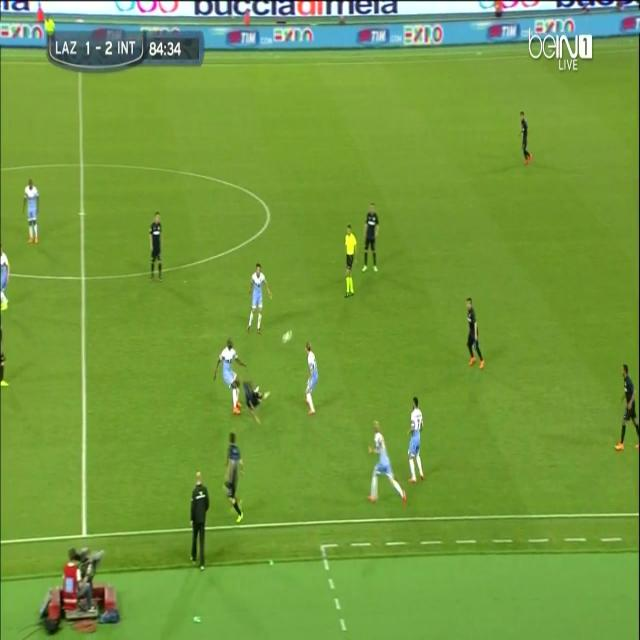Ball: (280, 328, 294, 348)
Player: (366, 420, 406, 510), (213, 337, 248, 419), (612, 361, 638, 456), (222, 431, 246, 527), (406, 394, 428, 488), (246, 262, 274, 335), (463, 290, 486, 374), (361, 197, 383, 278), (145, 209, 167, 287), (21, 176, 44, 247), (302, 339, 320, 421), (243, 375, 272, 422), (518, 110, 535, 170), (0, 242, 11, 310)
Referee: (342, 222, 360, 302), (44, 18, 58, 52)
